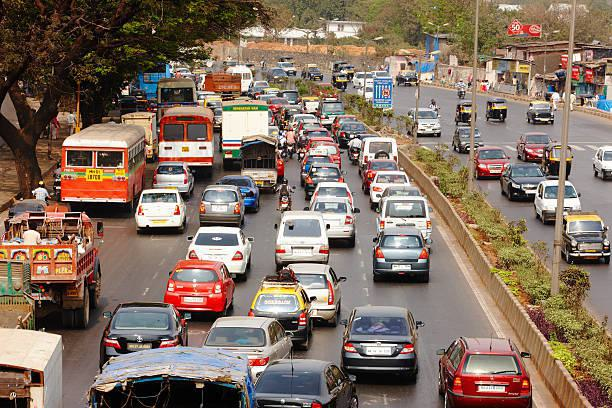bus: (57, 118, 150, 217), (153, 108, 219, 172), (147, 77, 195, 117)
car: (96, 347, 273, 408), (184, 312, 287, 393), (440, 337, 539, 407), (338, 307, 419, 392), (97, 297, 188, 364), (251, 347, 346, 408), (281, 242, 341, 316), (185, 224, 254, 282), (167, 255, 233, 315), (283, 206, 350, 260), (370, 213, 429, 273), (557, 197, 604, 259), (149, 174, 197, 228), (500, 162, 554, 207), (308, 182, 360, 219), (533, 179, 579, 217), (365, 162, 409, 200), (375, 191, 431, 217), (514, 129, 555, 162), (472, 142, 507, 178), (301, 160, 344, 187), (409, 110, 446, 141), (453, 128, 484, 158), (302, 142, 335, 166)
motorbike: (538, 141, 567, 171), (451, 99, 479, 124), (484, 94, 501, 125), (334, 70, 347, 93)
truck: (5, 212, 107, 324), (220, 103, 271, 164)
